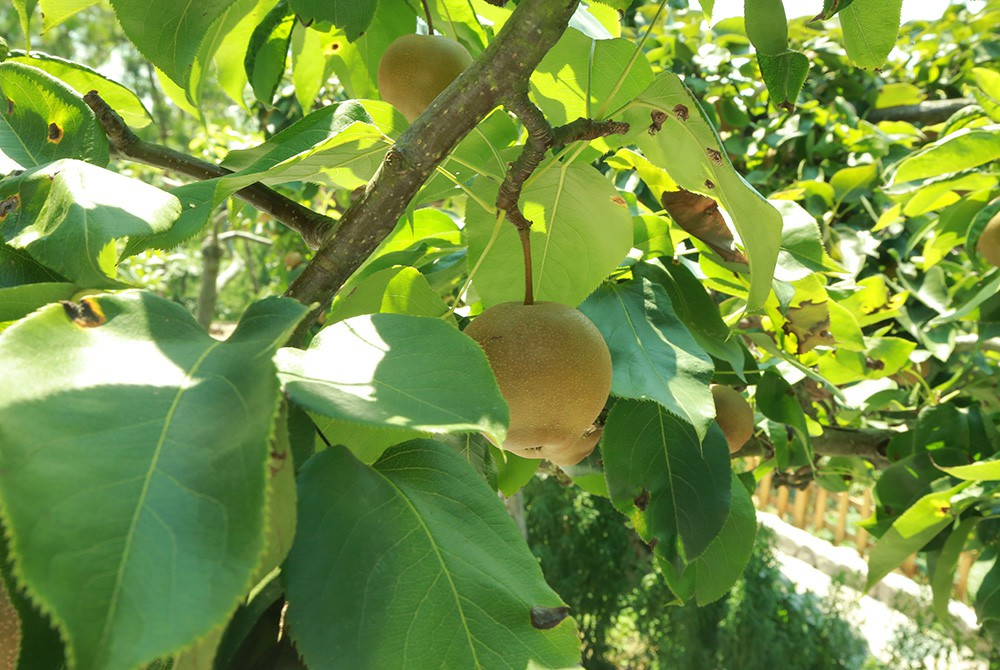pear: (457, 297, 613, 458), (379, 33, 473, 118), (690, 382, 756, 460), (975, 210, 1000, 272)
